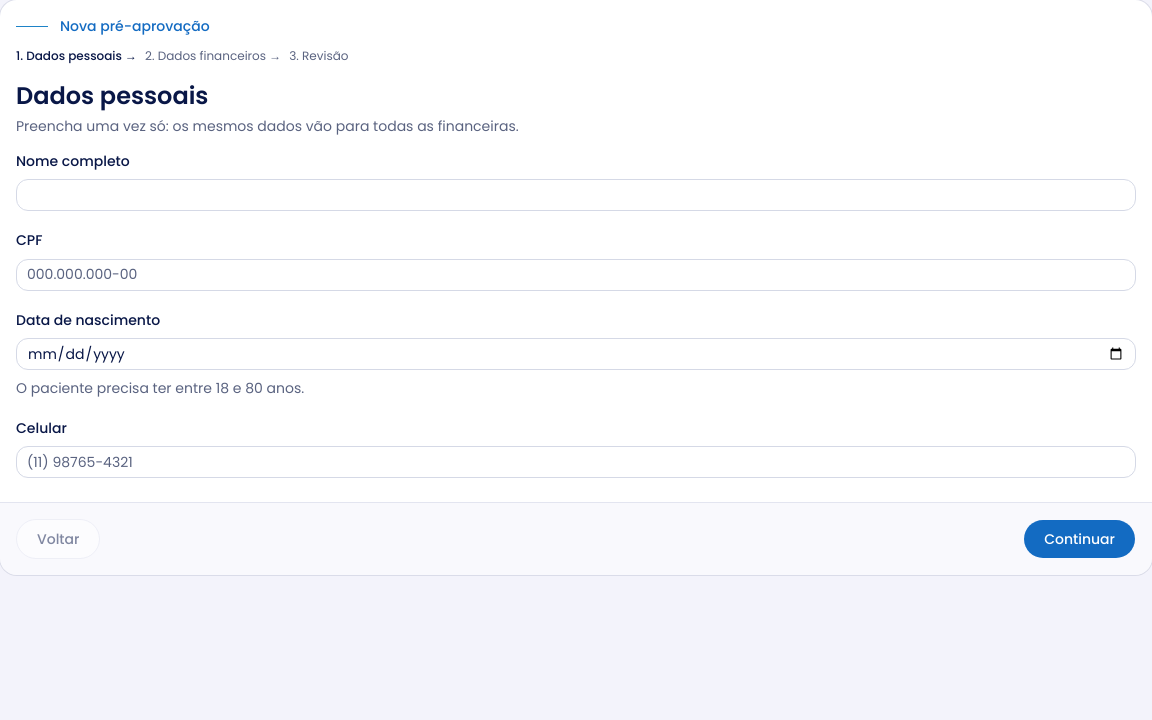
Test: RegistrationForm › clears the error while the user fixes the field, without leaving it
This screenshot has width=1152, height=720.
Click the button "Continuar".
click(1080, 539)  # box left=1023, top=519, right=1136, bottom=559
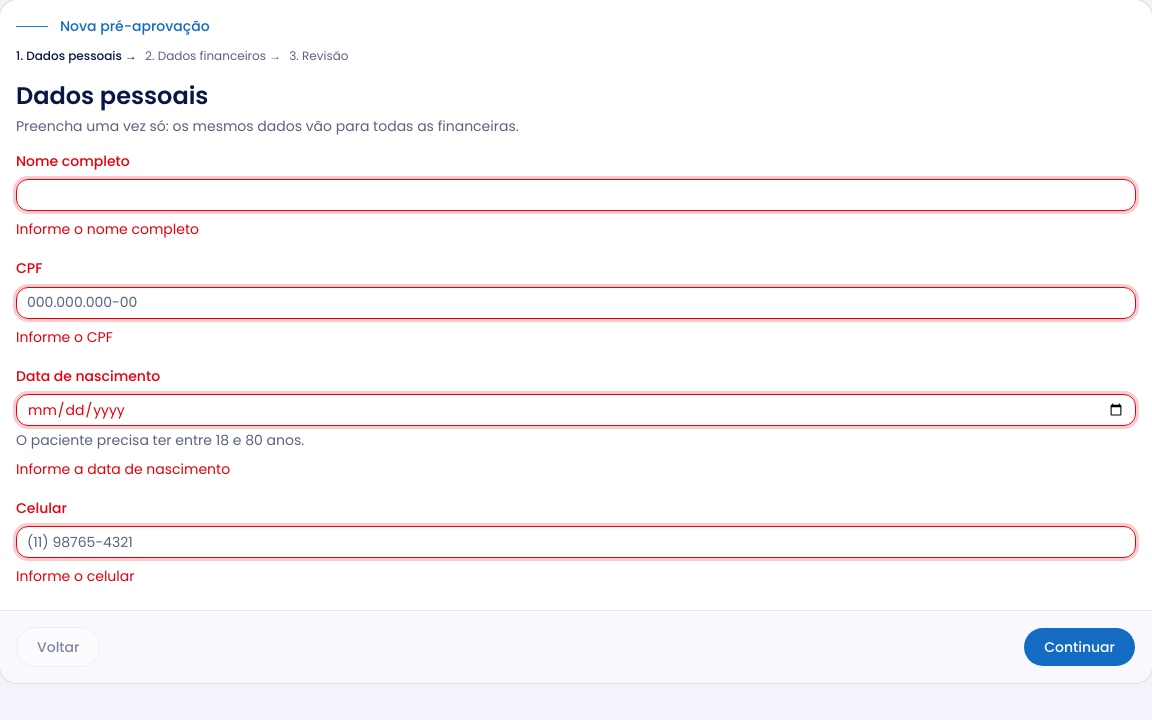
expect the text "Informe o celular" is shown: met, box left=16, top=566, right=134, bottom=586
Type "11987654321" into the field labelled "Celular".
click(576, 542); type("11987654321")  # box left=16, top=526, right=1136, bottom=558
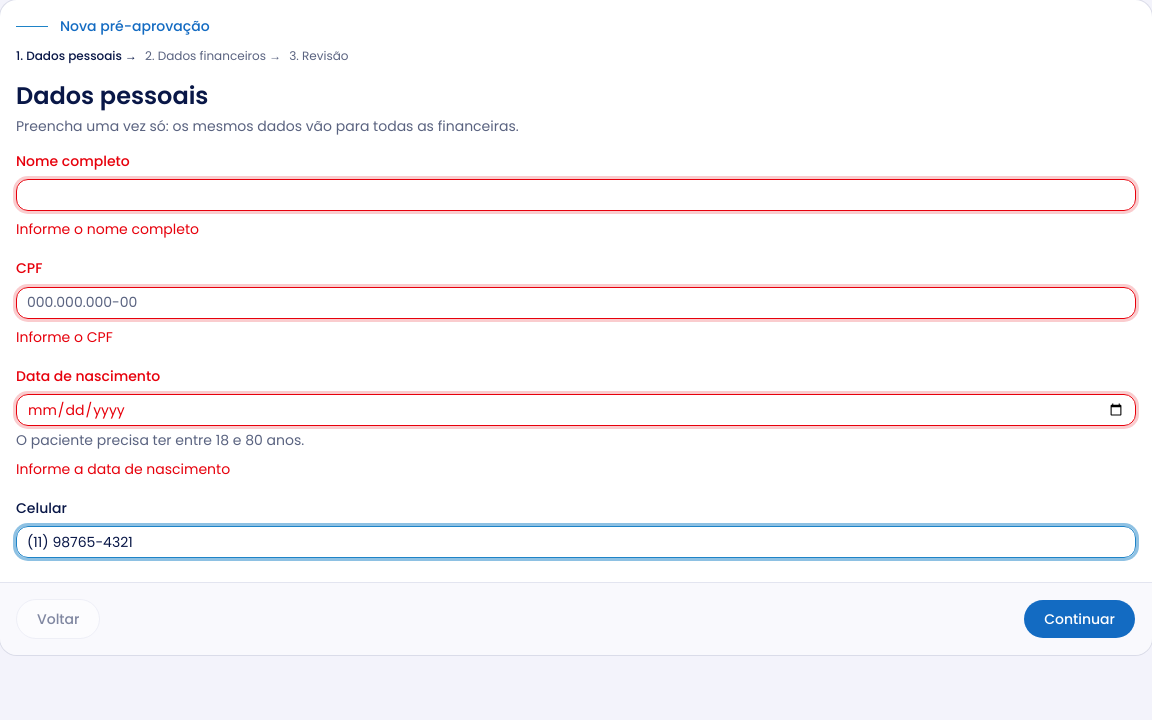
expect the message "Informe o celular" is gone: met
